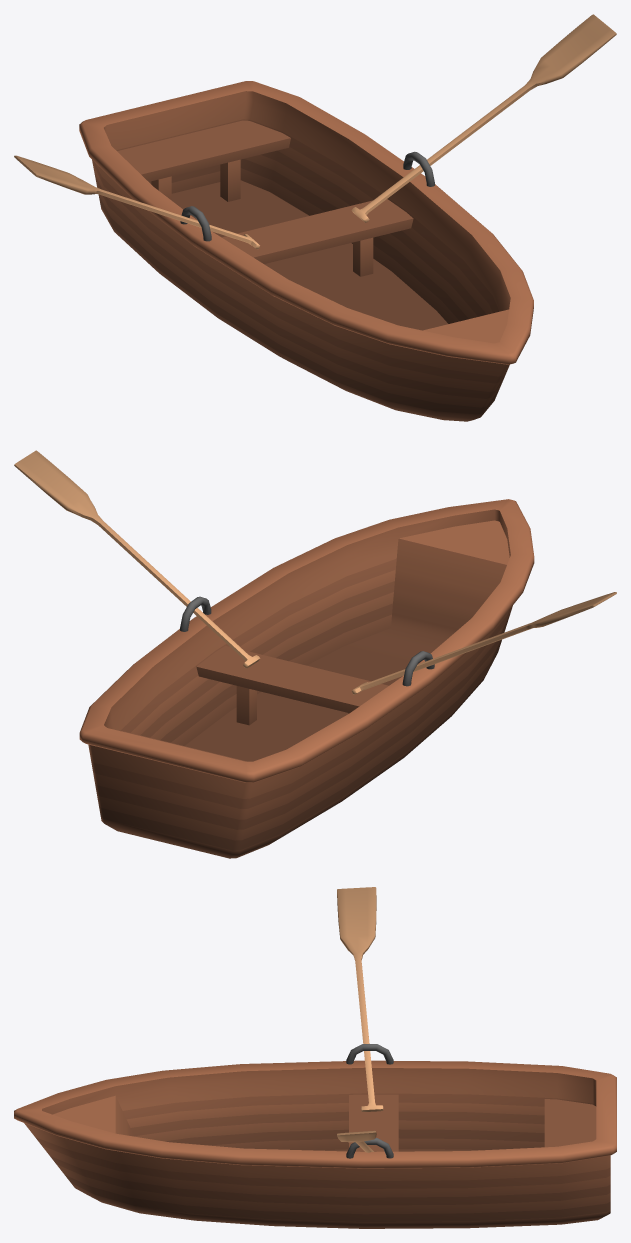
The model's file is fishing boat.fbx.
The picture shows the model from 3 angles, top to bottom: view 1: azimuth 30°, elevation 25°; view 2: azimuth 150°, elevation 25°; view 3: azimuth 270°, elevation 25°; orthographic projection. The views are drawn at different scales.
Parts seen in each view (by area): view 1: fishing_boat, fishing_boat_paddle_l, fishing_boat_paddle_r; view 2: fishing_boat, fishing_boat_paddle_l, fishing_boat_paddle_r; view 3: fishing_boat, fishing_boat_paddle_r, fishing_boat_paddle_l.
Part boxes in pixels (x1,y1,x2,y2): fishing_boat: [79, 81, 533, 421]; fishing_boat_paddle_l: [351, 14, 616, 222]; fishing_boat_paddle_r: [14, 155, 259, 248]; fishing_boat: [79, 499, 534, 858]; fishing_boat_paddle_l: [14, 450, 260, 668]; fishing_boat_paddle_r: [352, 592, 616, 694]; fishing_boat: [14, 1044, 616, 1228]; fishing_boat_paddle_r: [337, 887, 383, 1111]; fishing_boat_paddle_l: [337, 1130, 376, 1152].
Bounding box in the file's own units: 423 × 149 × 439.
1 material, 1 textured.
